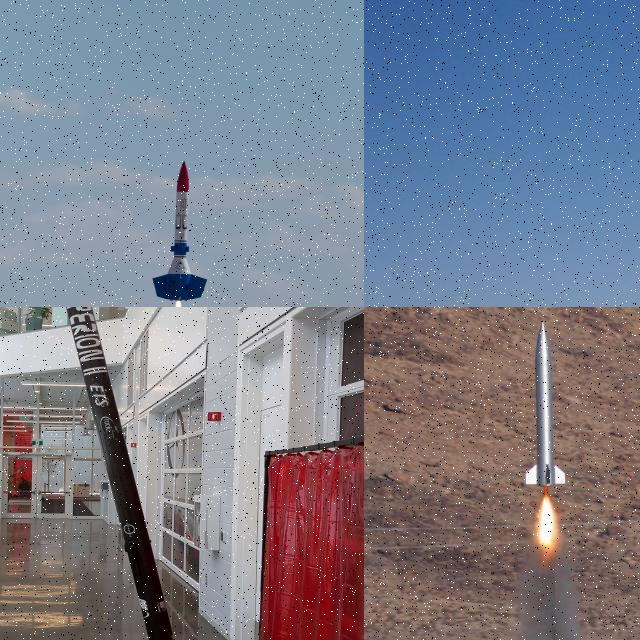Rocket: (66, 307, 175, 640), (152, 160, 208, 303), (526, 320, 566, 488)
